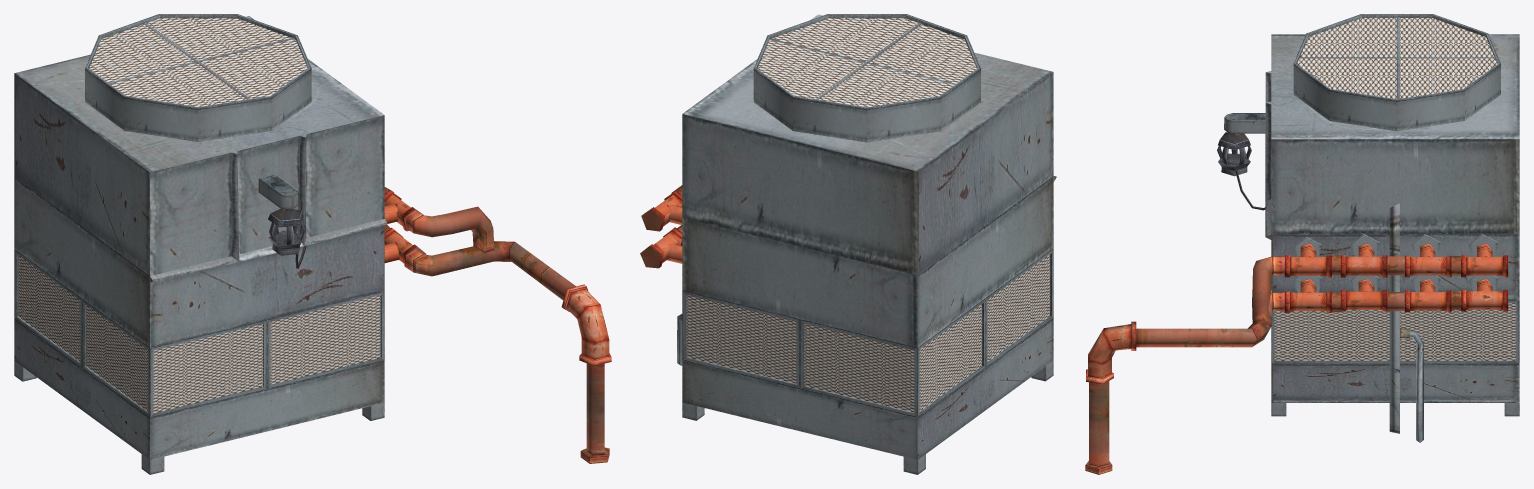
Rendered from Air_vent_complex.fbx.
3 views of the same model, side by side, from view 1: azimuth 30°, elevation 25°; view 2: azimuth 150°, elevation 25°; view 3: azimuth 270°, elevation 25° (orthographic). The views are drawn at different scales.
Visible parts, largest first — view 1: Air_vent_complex; view 2: Air_vent_complex; view 3: Air_vent_complex.
Boxes of the visible parts, box(x1,y1,x2,y2) form: Air_vent_complex: box(14, 14, 611, 474); Air_vent_complex: box(640, 14, 1056, 474); Air_vent_complex: box(1085, 14, 1519, 474).
Size of the model in its own units: 731 by 655 by 820.
